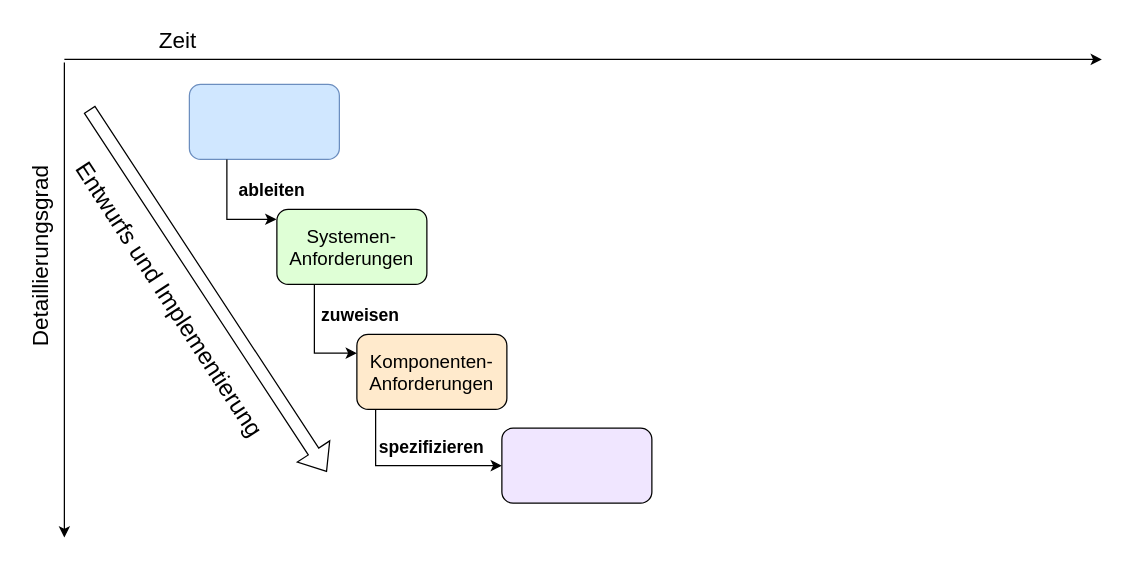
Image size: 1134x569. Some labels were removed from this diagram. Each missing label, with the box of its shape:
Produkt-Anforderungen.: (188, 83, 339, 159)
Software Implementierung & Unit testing: (501, 427, 652, 503)
